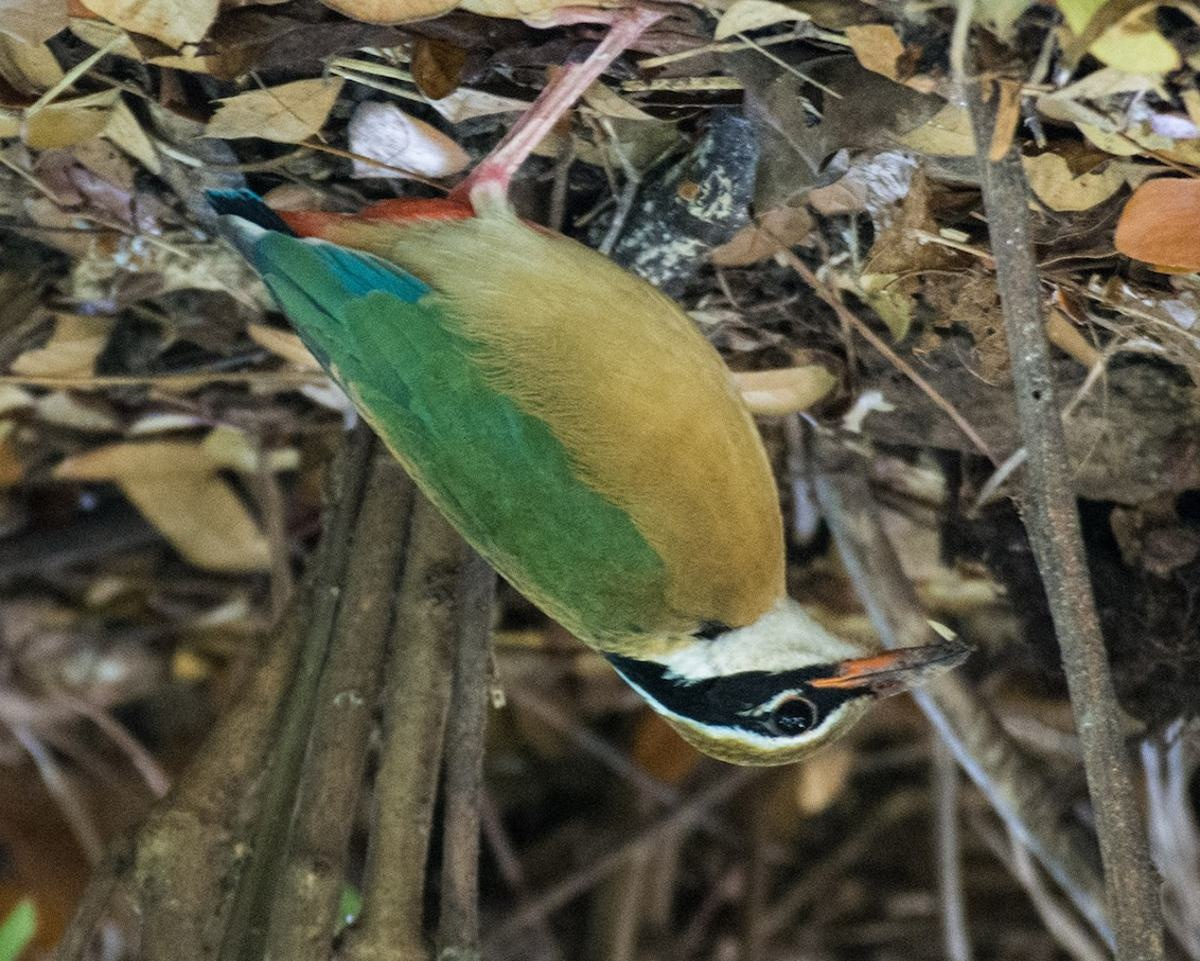pitta: (245, 101, 958, 775)
